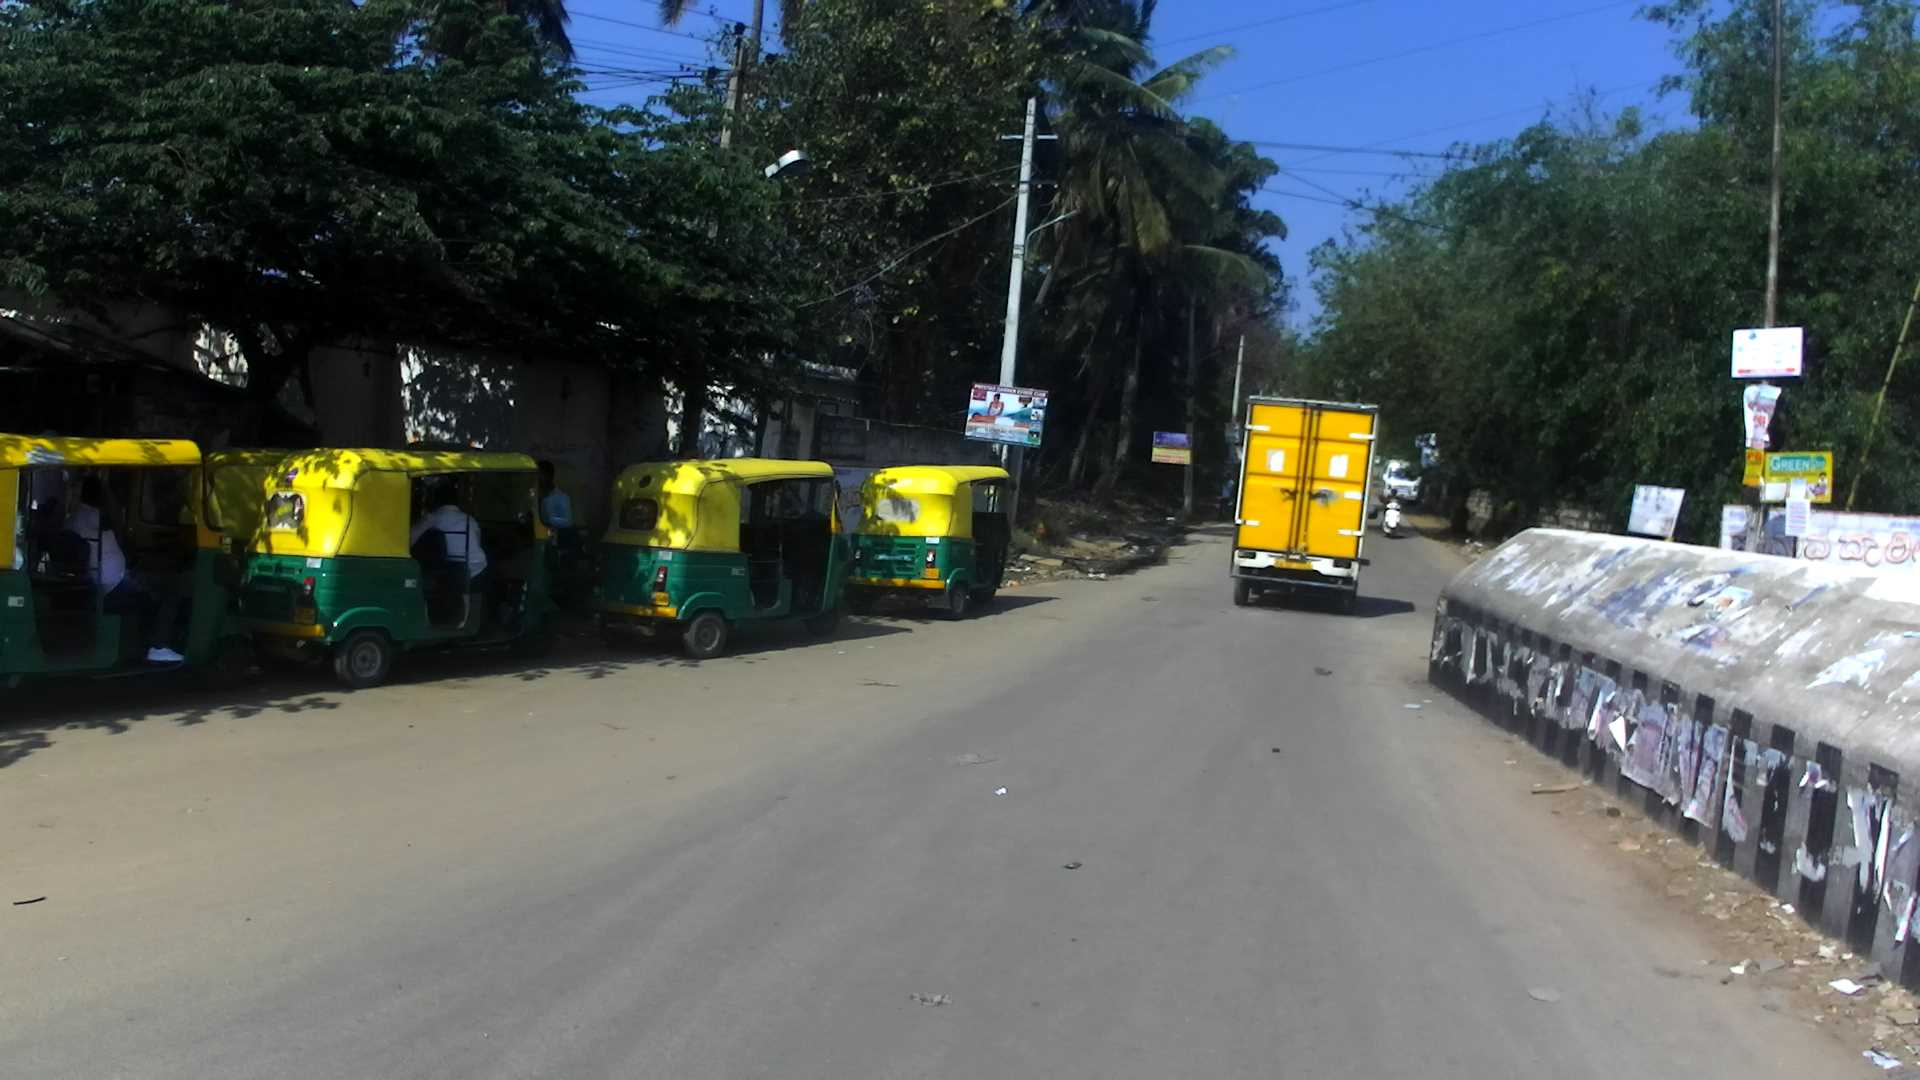bike: (1373, 473, 1415, 556)
truck: (1214, 378, 1405, 616)
